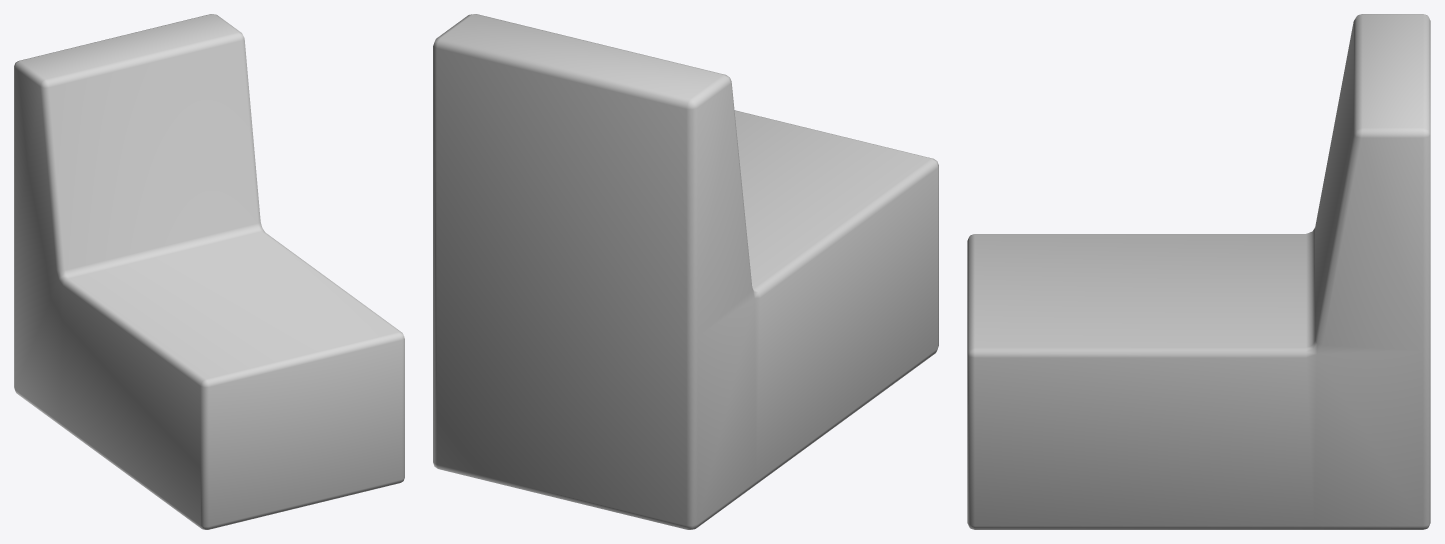
Rendered from ChairPiece.fbx.
3 renders of one model, left to right at view 1: azimuth 30°, elevation 25°; view 2: azimuth 150°, elevation 25°; view 3: azimuth 270°, elevation 25°, orthographic. The views are drawn at different scales.
Parts seen in each view (by area): view 1: SM_ChairPiece__1_; view 2: SM_ChairPiece__1_; view 3: SM_ChairPiece__1_.
Boxes of the visible parts, x1,y1,x2,y2 form: SM_ChairPiece__1_: (14, 14, 404, 529); SM_ChairPiece__1_: (433, 14, 938, 529); SM_ChairPiece__1_: (967, 14, 1430, 529).
Size of the model in its own units: 36.76 by 57.41 by 60.
